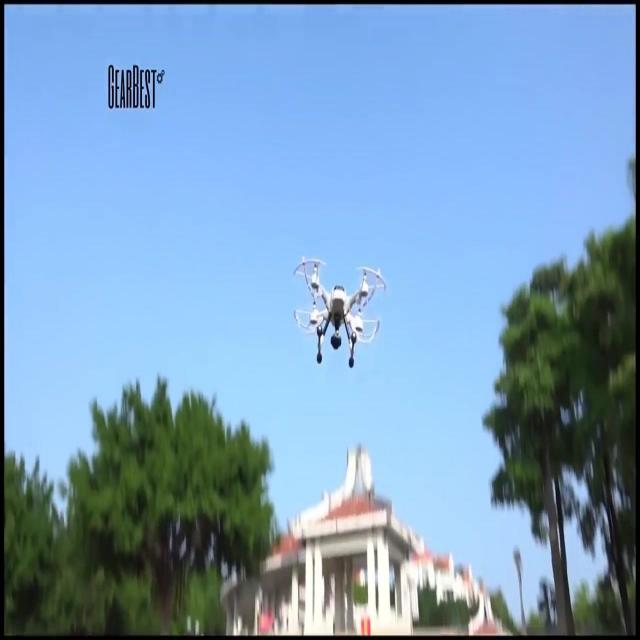UAV: (293, 256, 387, 368)
